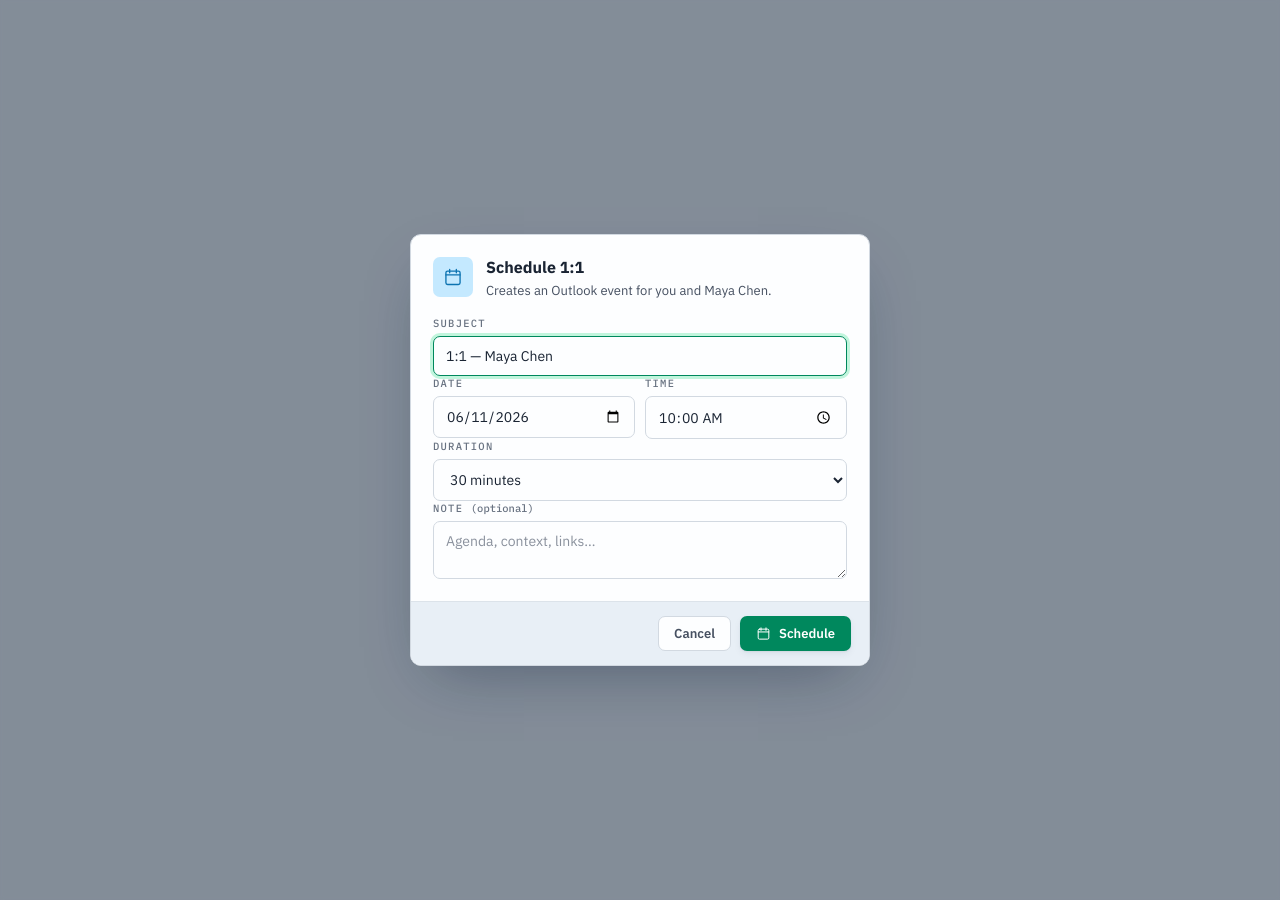
Scenario: ScheduleDialog › shows the connect-Outlook error on 409 illegal_state and stays open
Click the button with test id "schedule-submit".
click(796, 634)  # box [740,616,851,651]
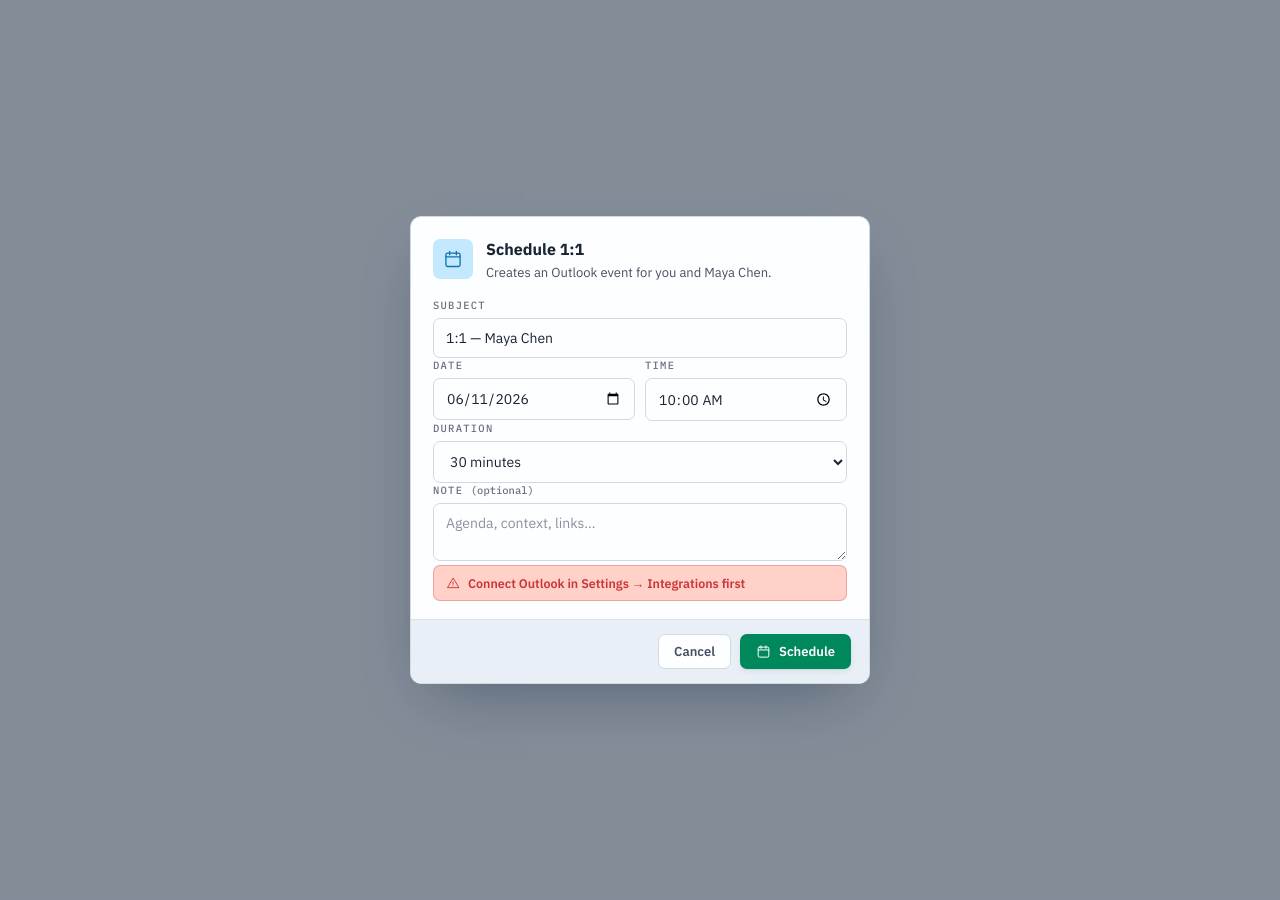
Expected: the dialog with test id "schedule-dialog" is shown, [410,216,870,684]
Expected: the message with test id "schedule-error" shows "Connect Outlook in Settings", [468,575,745,591]
Expected: the message with test id "schedule-error" shows "Integrations", [468,575,745,591]
